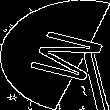M_E: (9, 24, 101, 86)
